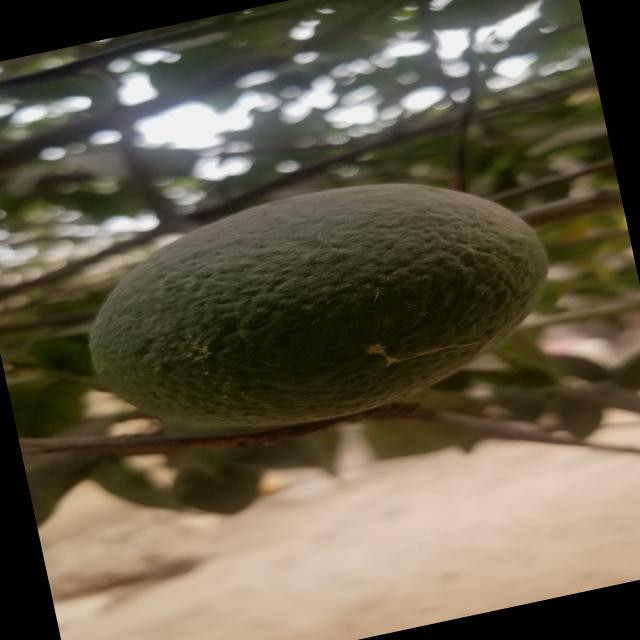Unripe: (60, 146, 563, 460)
